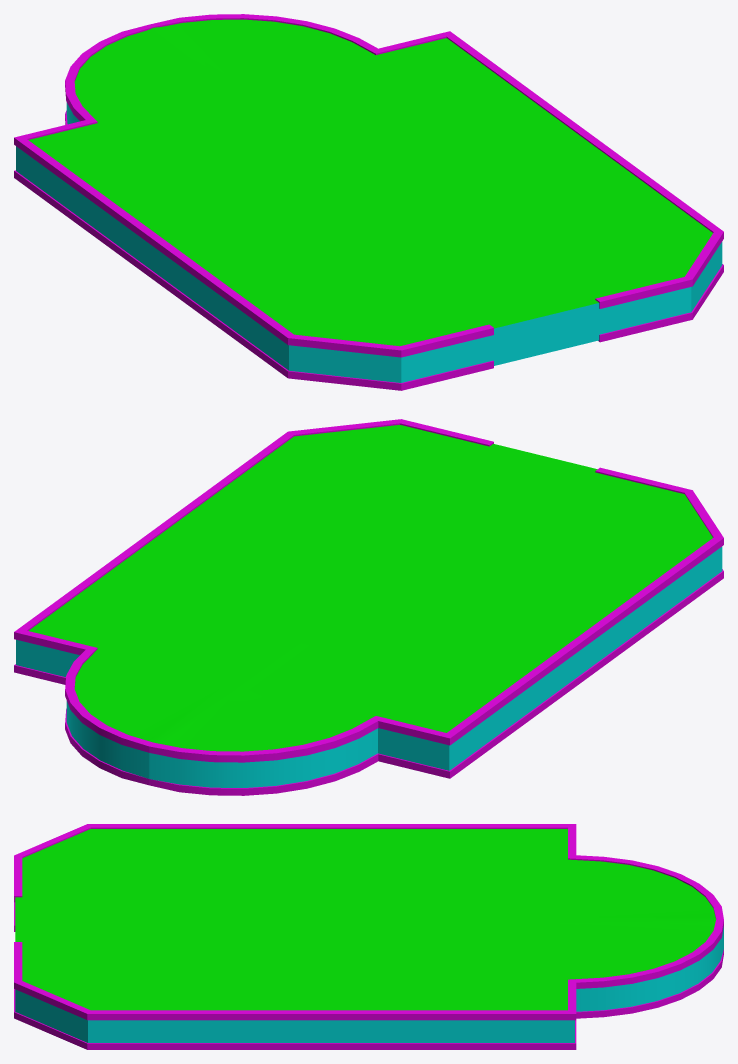
3 renders of one model, top to bottom at view 1: azimuth 30°, elevation 25°; view 2: azimuth 150°, elevation 25°; view 3: azimuth 270°, elevation 25°, orthographic. The views are drawn at different scales.
Parts seen in each view (by area): view 1: polySurface399, polySurface402, polySurface401; view 2: polySurface399, polySurface402, polySurface401; view 3: polySurface399, polySurface402, polySurface401.
Boxes of the visible parts, left/top/right/bottom form: polySurface399: left=28, top=19, right=712, bottom=346; polySurface402: left=14, top=14, right=723, bottom=390; polySurface401: left=16, top=102, right=722, bottom=382; polySurface399: left=29, top=425, right=712, bottom=751; polySurface402: left=14, top=419, right=723, bottom=795; polySurface401: left=16, top=546, right=722, bottom=787; polySurface399: left=15, top=829, right=715, bottom=1010; polySurface402: left=14, top=824, right=723, bottom=1049; polySurface401: left=15, top=926, right=723, bottom=1042.
Bounding box in the file's own units: 105 × 9.3 × 166.
